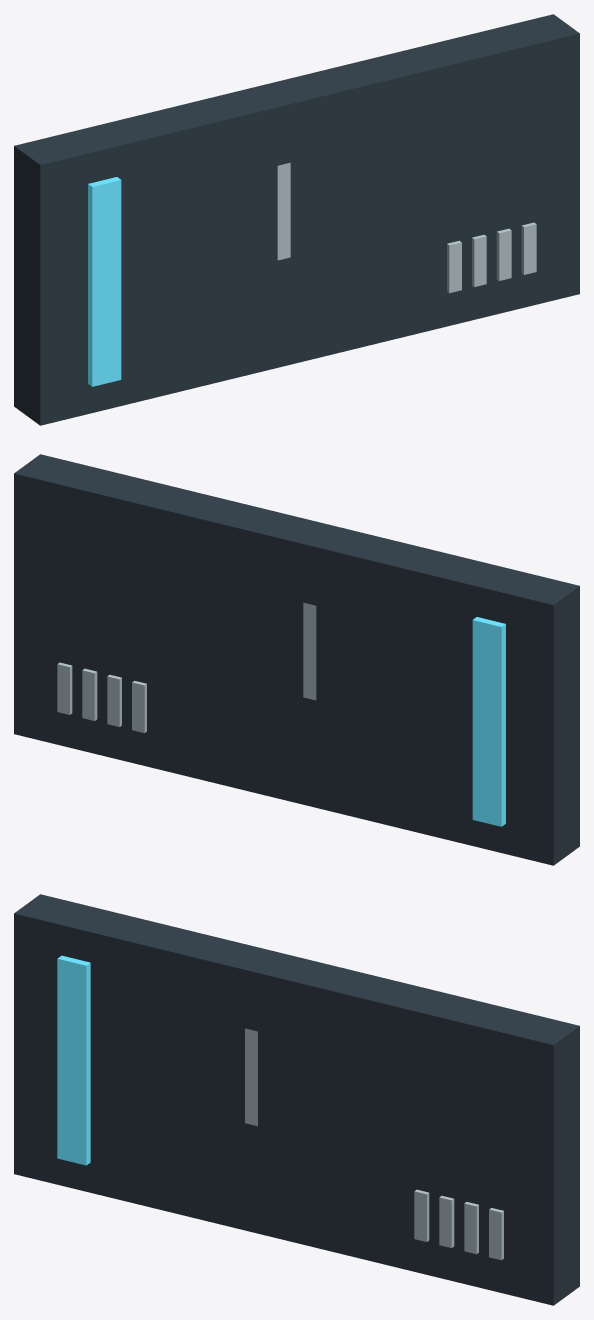
The model's file is sector_1.glb.
The picture shows the model from 3 angles, top to bottom: view 1: azimuth 30°, elevation 25°; view 2: azimuth 150°, elevation 25°; view 3: azimuth 330°, elevation 25°; orthographic projection.
Visible parts, largest first — view 1: SectorNumeral.001; view 2: SectorNumeral.001; view 3: SectorNumeral.001.
Part boxes in pixels (x1,y1,x2,y2): SectorNumeral.001: (14, 14, 579, 425); SectorNumeral.001: (14, 454, 579, 865); SectorNumeral.001: (14, 894, 579, 1305).
Size of the model in its own units: 1.3 by 0.6 by 0.146.
